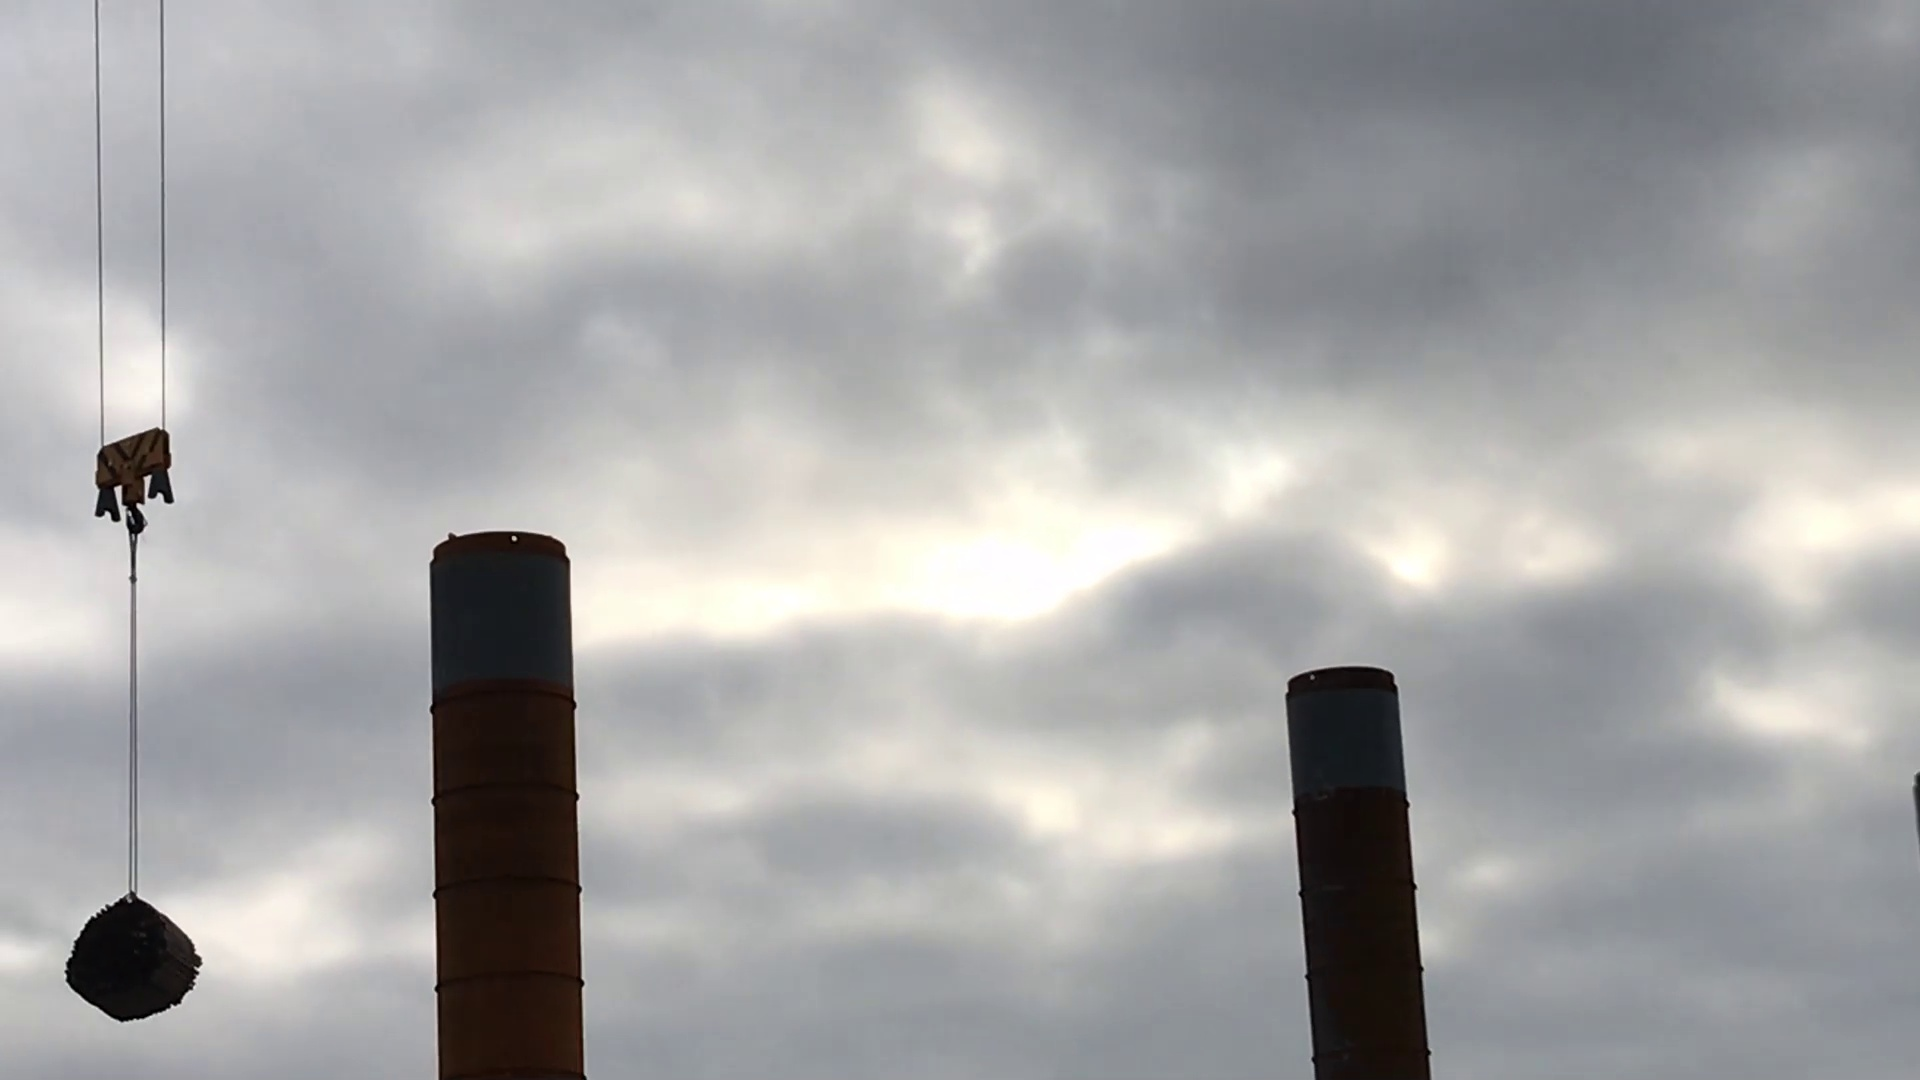hook: (76, 430, 178, 534)
